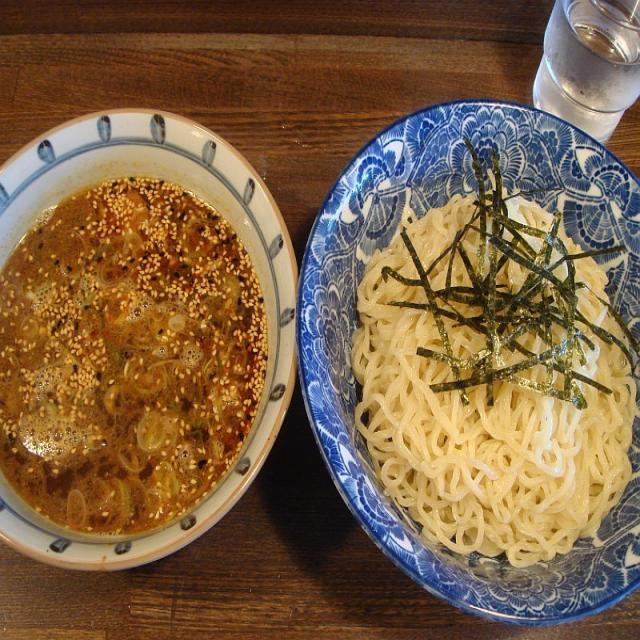面条主食: (0, 174, 625, 574)
